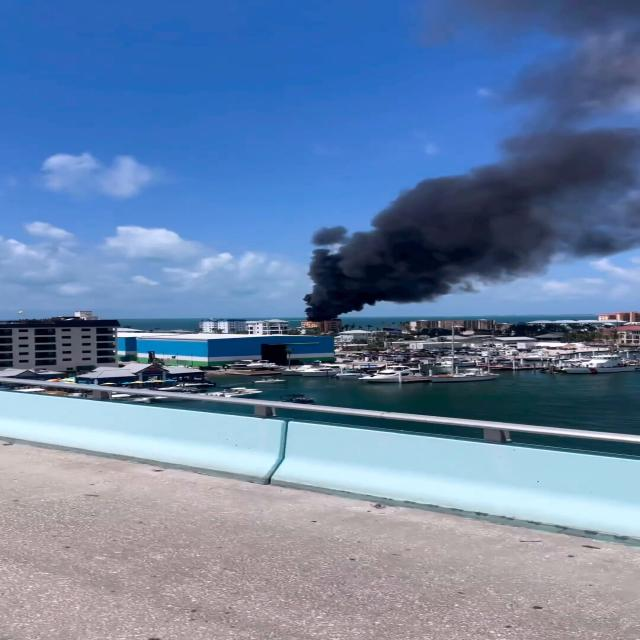smoke: (300, 230, 442, 297), (441, 188, 555, 258)
